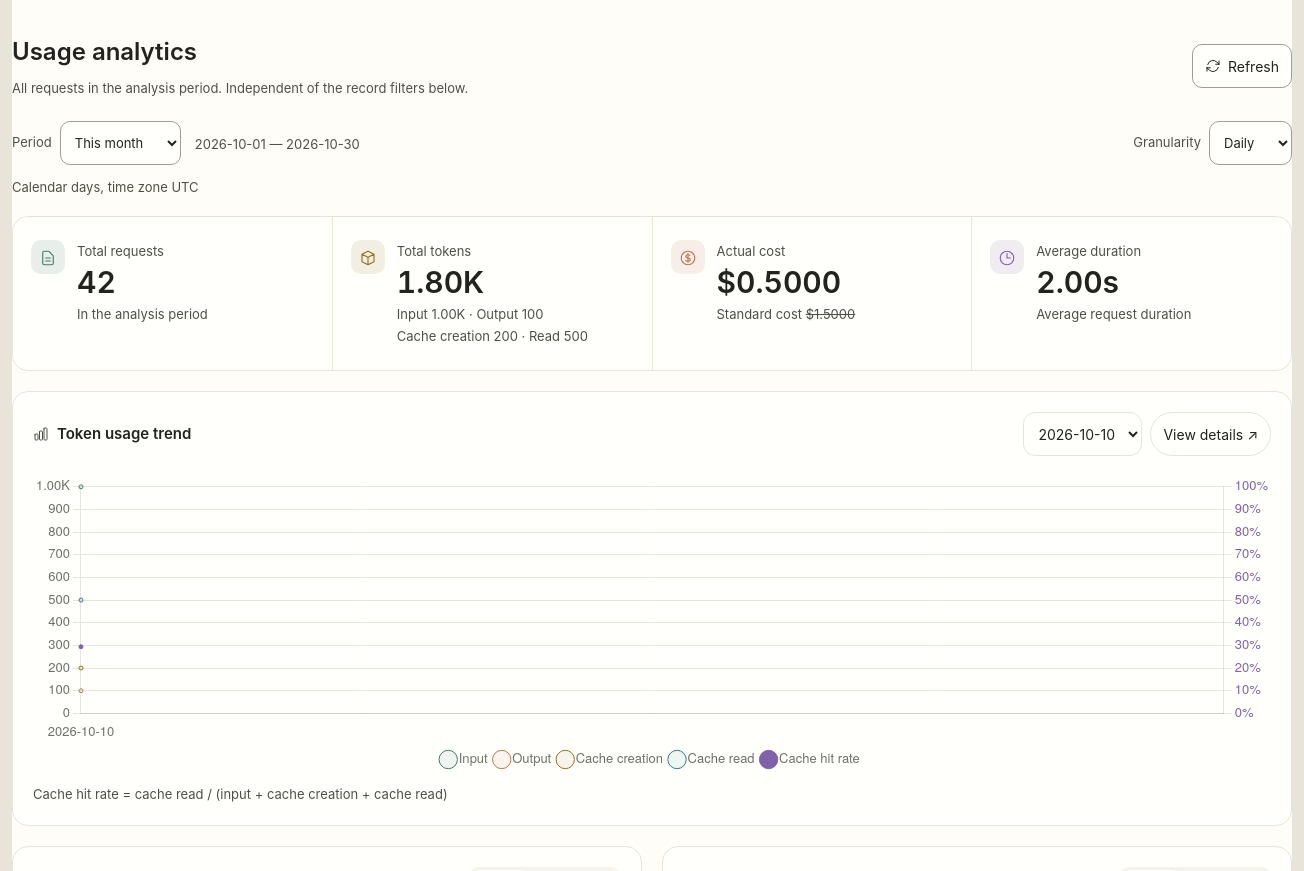
Scenario: PortalUsageAnalytics › applies calendar date ranges to every aggregate and reloads the selected granularity
Select "Custom" in the dropdown with test id "analytics-preset" at (120, 143), box x1=60 y1=121 x2=181 y2=165
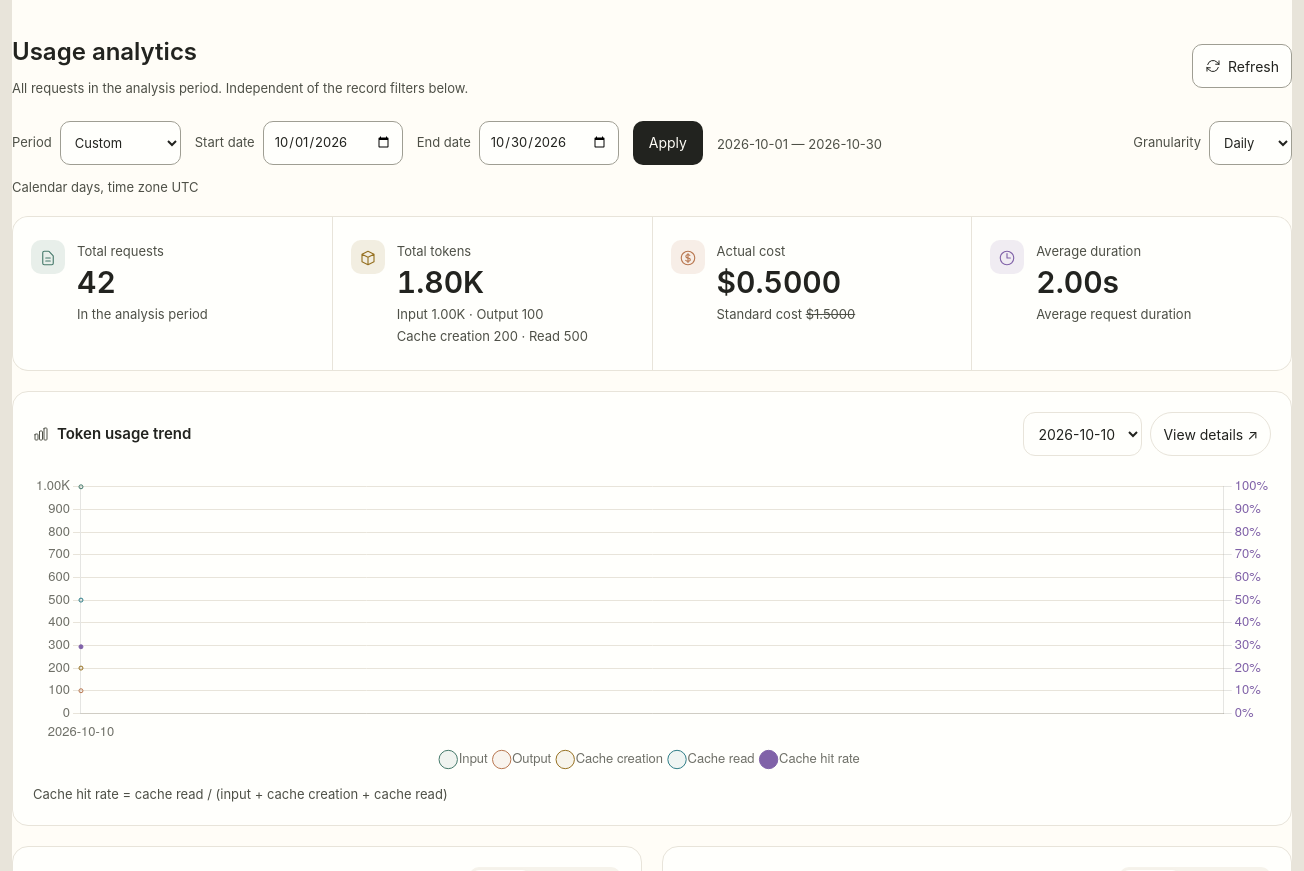
Type "2026-09-01" into the date field with test id "analytics-start" at (333, 143), box x1=263 y1=121 x2=403 y2=165
Type "2026-09-03" into the date field with test id "analytics-end" at (549, 143), box x1=479 y1=121 x2=619 y2=165
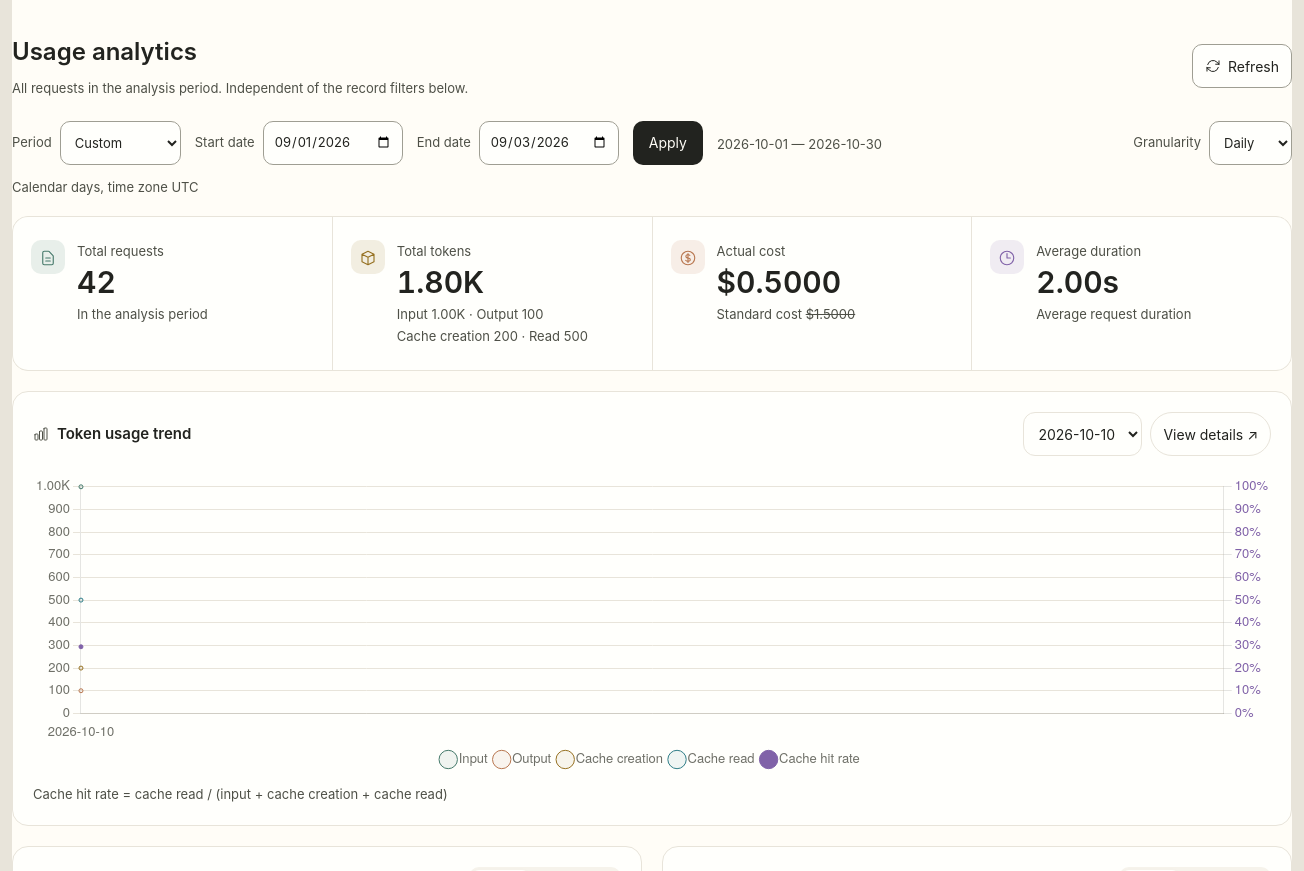
Submit the form that starts with "Period", box x1=12 y1=121 x2=1292 y2=165
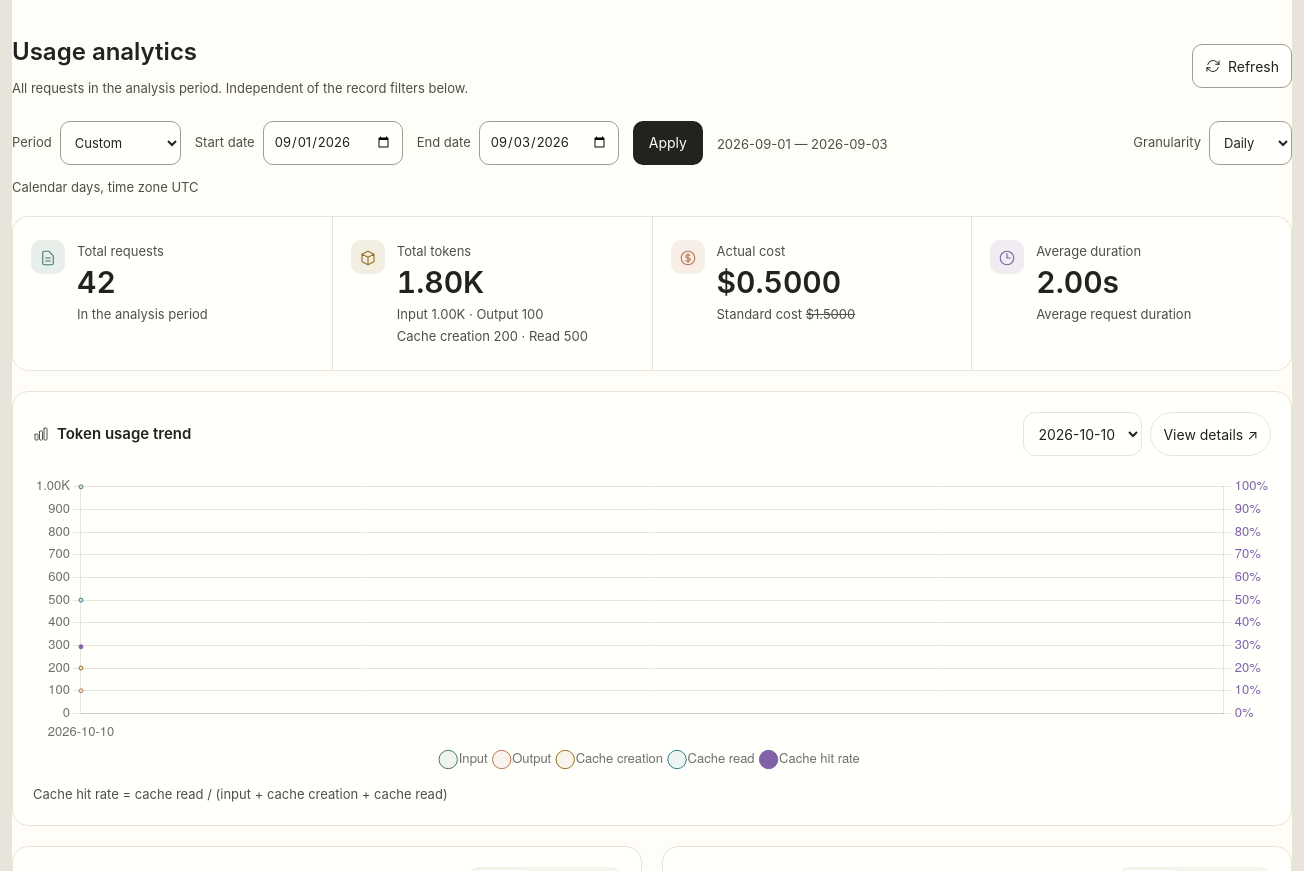
Select "Hourly" in the dropdown with test id "analytics-granularity" showing "Granularity" at (1250, 143), box x1=1209 y1=121 x2=1292 y2=165
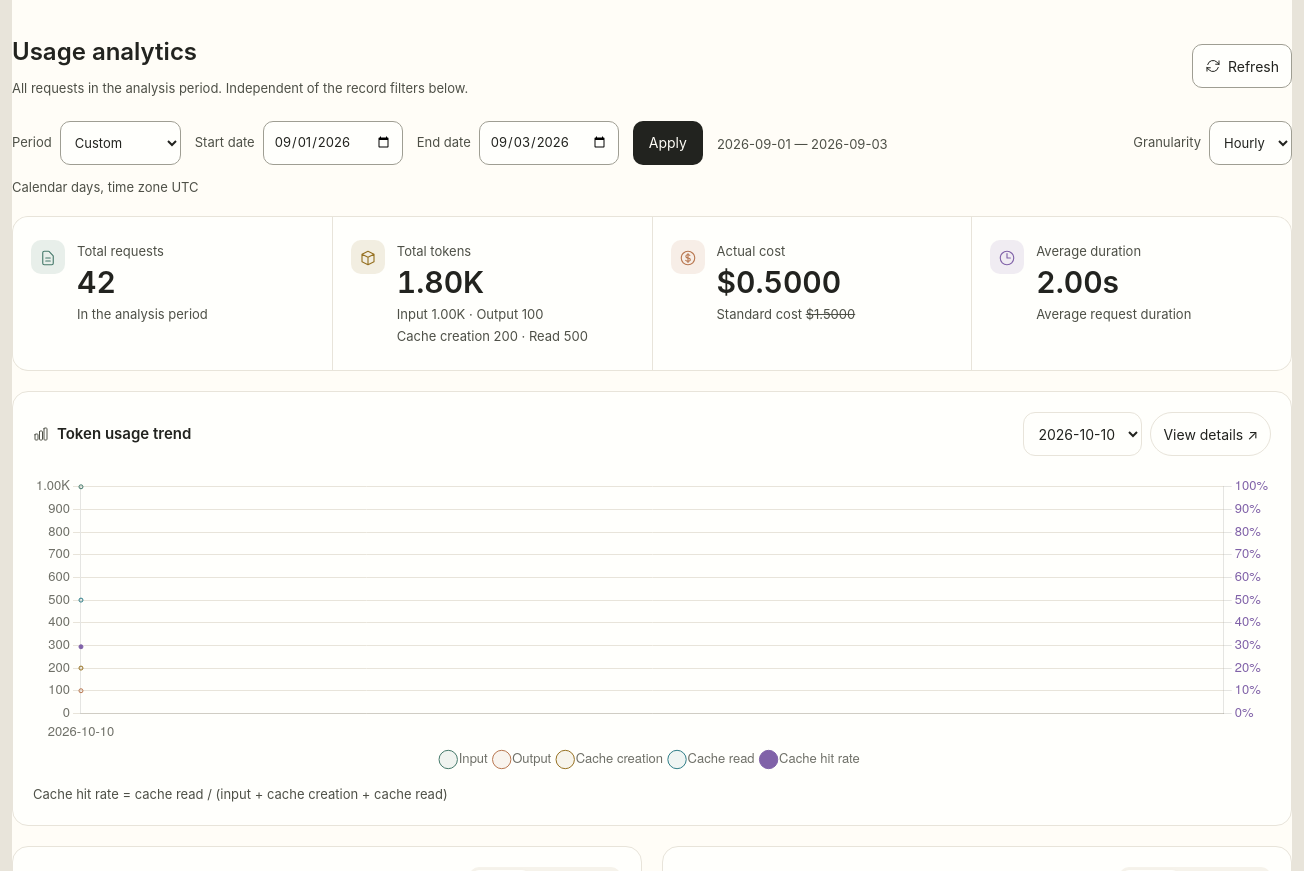
Type "2026-09-04" into the date field with test id "analytics-start" at (333, 143), box x1=263 y1=121 x2=403 y2=165
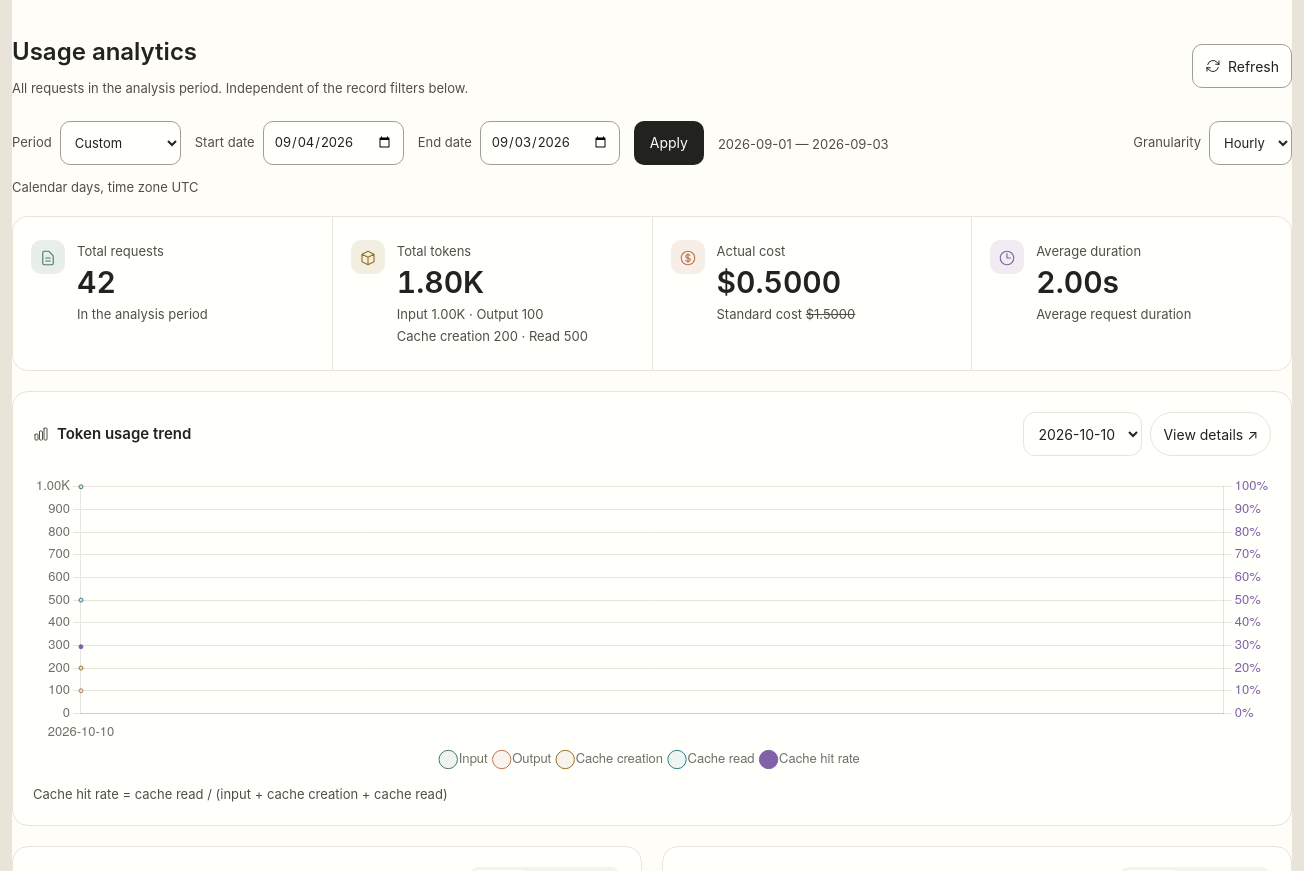
Submit the form that starts with "Period", box x1=12 y1=121 x2=1292 y2=165
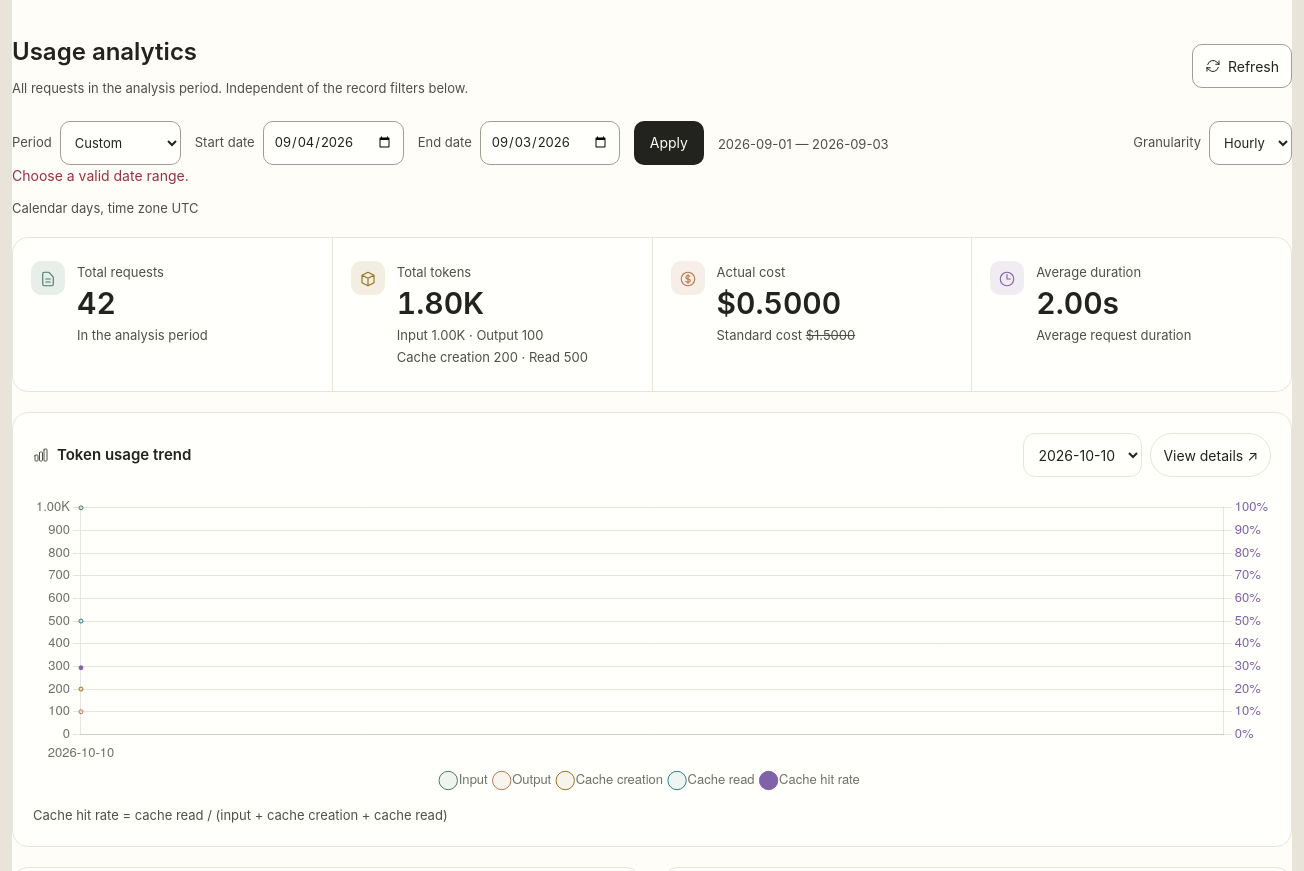
Expected: the text "Choose a valid date range" is shown, x1=12 y1=167 x2=189 y2=184
